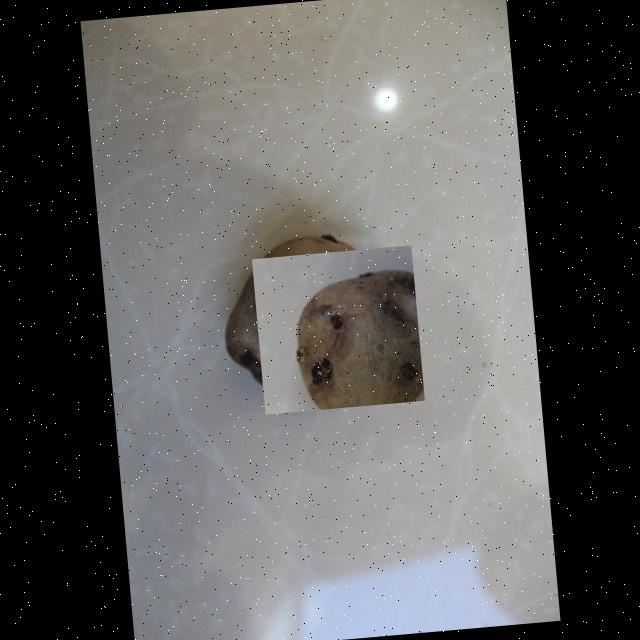Diseased-fungal potato: (252, 244, 424, 413)
